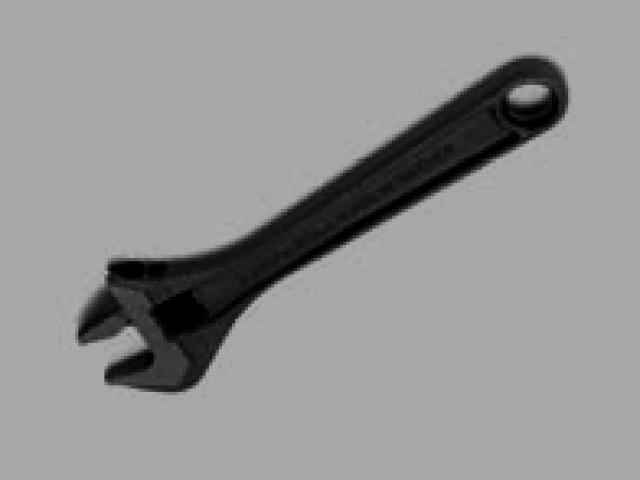Adjustable spanner: (79, 61, 566, 388)
